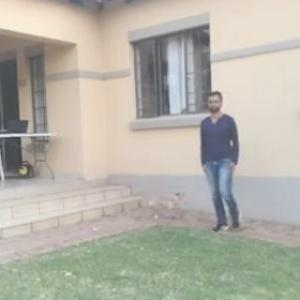follow: (196, 86, 245, 235)
